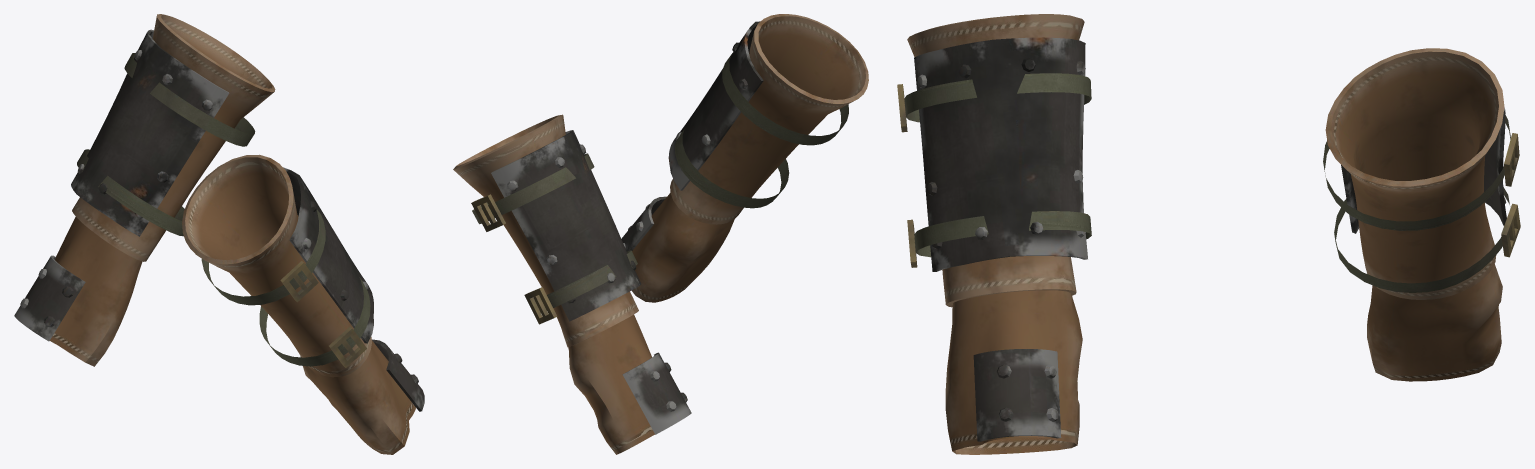
File: armor_gauntlets_display.glb
3 views of the same model, side by side, from view 1: azimuth 30°, elevation 25°; view 2: azimuth 150°, elevation 25°; view 3: azimuth 270°, elevation 25° (orthographic). The views are drawn at different scales.
Parts seen in each view (by area): view 1: gauntlet_l, gauntlet_r; view 2: gauntlet_l, gauntlet_r; view 3: gauntlet_r, gauntlet_l.
Boxes of the visible parts, box(x1,y1,x2,y2) form: gauntlet_l: box(14, 14, 275, 366); gauntlet_r: box(182, 154, 424, 454); gauntlet_l: box(453, 114, 691, 454); gauntlet_r: box(621, 14, 868, 302); gauntlet_r: box(897, 14, 1091, 454); gauntlet_l: box(1323, 48, 1520, 381).
Bounding box in the file's own units: 0.2402 × 0.2996 × 0.4377.
Materials: 2 (2 with a texture image).
